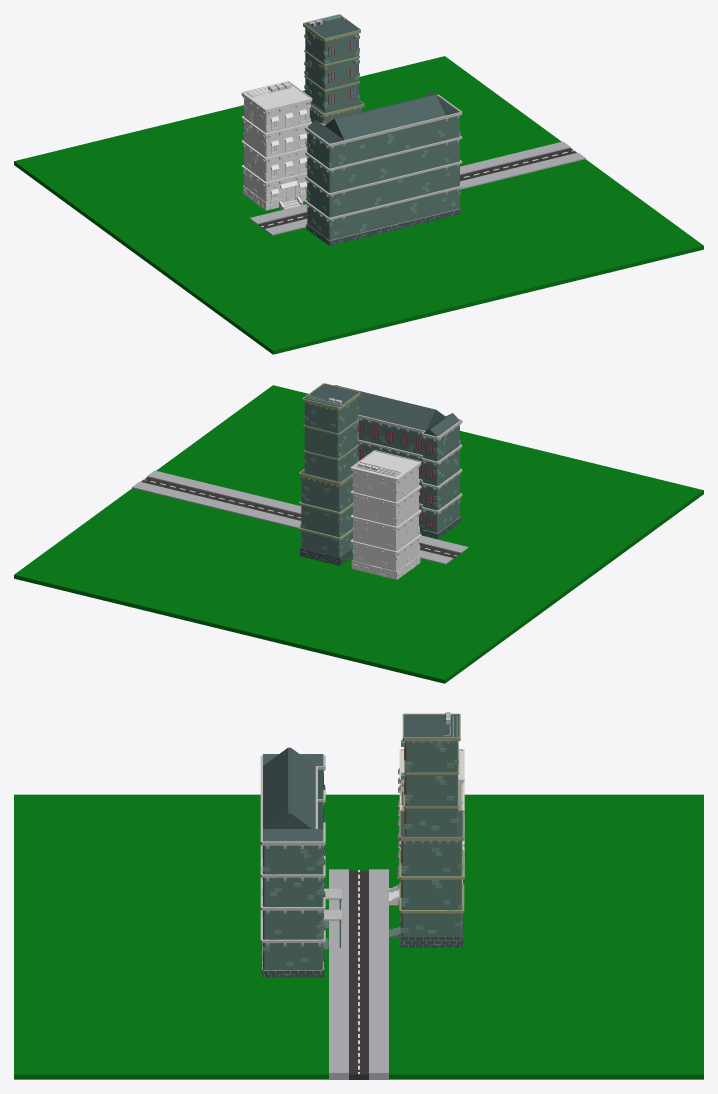
Rendered from city.gltf.
3 renders of one model, top to bottom at view 1: azimuth 30°, elevation 25°; view 2: azimuth 150°, elevation 25°; view 3: azimuth 270°, elevation 25°, orthographic. The views are drawn at different scales.
Visible parts, largest first — view 1: Cube, 4Story_Wide_2Doors_Roof_Mat, 4Story, 6Story_Stack_Mat, Street_Straight.002, Street_Straight.004, Street_Straight.007, Street_Straight.006; view 2: Cube, 6Story_Stack_Mat, 4Story_Wide_2Doors_Roof_Mat, 4Story, Street_Straight.004, Street_Straight.007, Street_Straight.006, Street_Straight.005, Street_Straight.002; view 3: Cube, 4Story_Wide_2Doors_Roof_Mat, 6Story_Stack_Mat, Street_Straight.004, Street_Straight.003, Street_Straight.005, Street_Straight.006, Street_Straight.007, Street_Straight, Street_Straight.002, Street_Straight.001, 4Story.
Part boxes in pixels (x1=…): Cube: x1=14, y1=56, x2=703, y2=354; 4Story_Wide_2Doors_Roof_Mat: x1=305, y1=92, x2=462, y2=245; 4Story: x1=241, y1=81, x2=312, y2=210; 6Story_Stack_Mat: x1=303, y1=14, x2=364, y2=124; Street_Straight.002: x1=249, y1=208, x2=307, y2=235; Street_Straight.004: x1=524, y1=141, x2=585, y2=168; Street_Straight.007: x1=485, y1=151, x2=546, y2=178; Street_Straight.006: x1=460, y1=160, x2=507, y2=187; Cube: x1=14, y1=385, x2=703, y2=683; 6Story_Stack_Mat: x1=299, y1=383, x2=360, y2=565; 4Story_Wide_2Doors_Roof_Mat: x1=334, y1=385, x2=462, y2=538; 4Story: x1=350, y1=450, x2=421, y2=579; Street_Straight.004: x1=132, y1=470, x2=193, y2=497; Street_Straight.007: x1=171, y1=480, x2=232, y2=507; Street_Straight.006: x1=210, y1=489, x2=271, y2=516; Street_Straight.005: x1=249, y1=499, x2=301, y2=526; Street_Straight.002: x1=419, y1=537, x2=468, y2=564; Cube: x1=14, y1=794, x2=703, y2=1079; 4Story_Wide_2Doors_Roof_Mat: x1=260, y1=747, x2=341, y2=977; 6Story_Stack_Mat: x1=389, y1=712, x2=464, y2=947; Street_Straight.004: x1=329, y1=1047, x2=388, y2=1079; Street_Straight.003: x1=329, y1=945, x2=388, y2=972; Street_Straight.005: x1=329, y1=971, x2=388, y2=997; Street_Straight.006: x1=329, y1=996, x2=388, y2=1023; Street_Straight.007: x1=329, y1=1022, x2=388, y2=1048; Street_Straight: x1=329, y1=920, x2=388, y2=946; Street_Straight.002: x1=329, y1=869, x2=388, y2=895; Street_Straight.001: x1=329, y1=894, x2=388, y2=921; 4Story: x1=388, y1=749, x2=464, y2=913.
Bounding box in the file's own units: 21.97 × 7.97 × 22.87.
